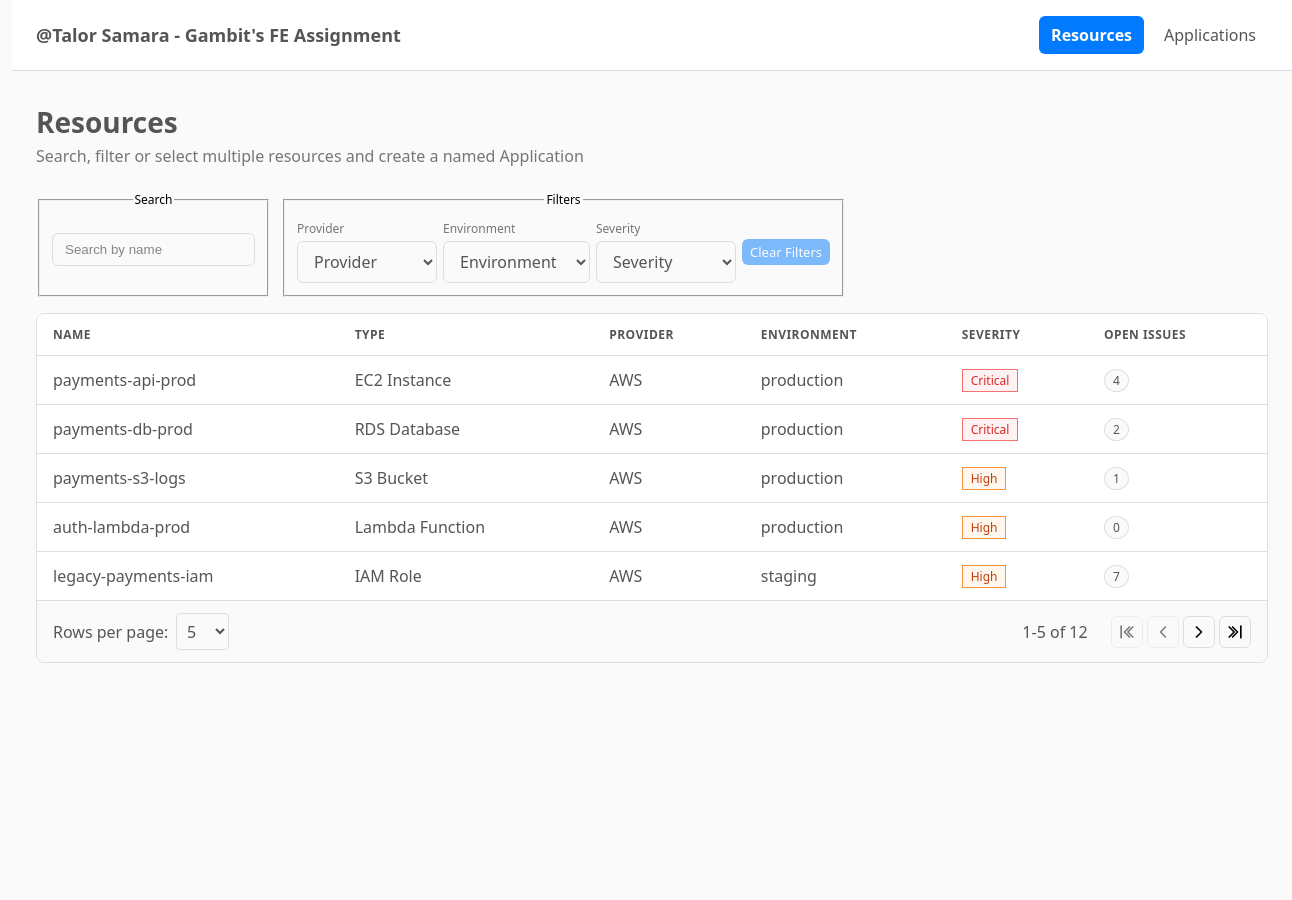
Test: ResourcesPage › should filter resources by provider and update the URL
Select "GCP" in the dropdown labelled "Provider": (367, 262) [297,241,437,283]
(page scrolled)
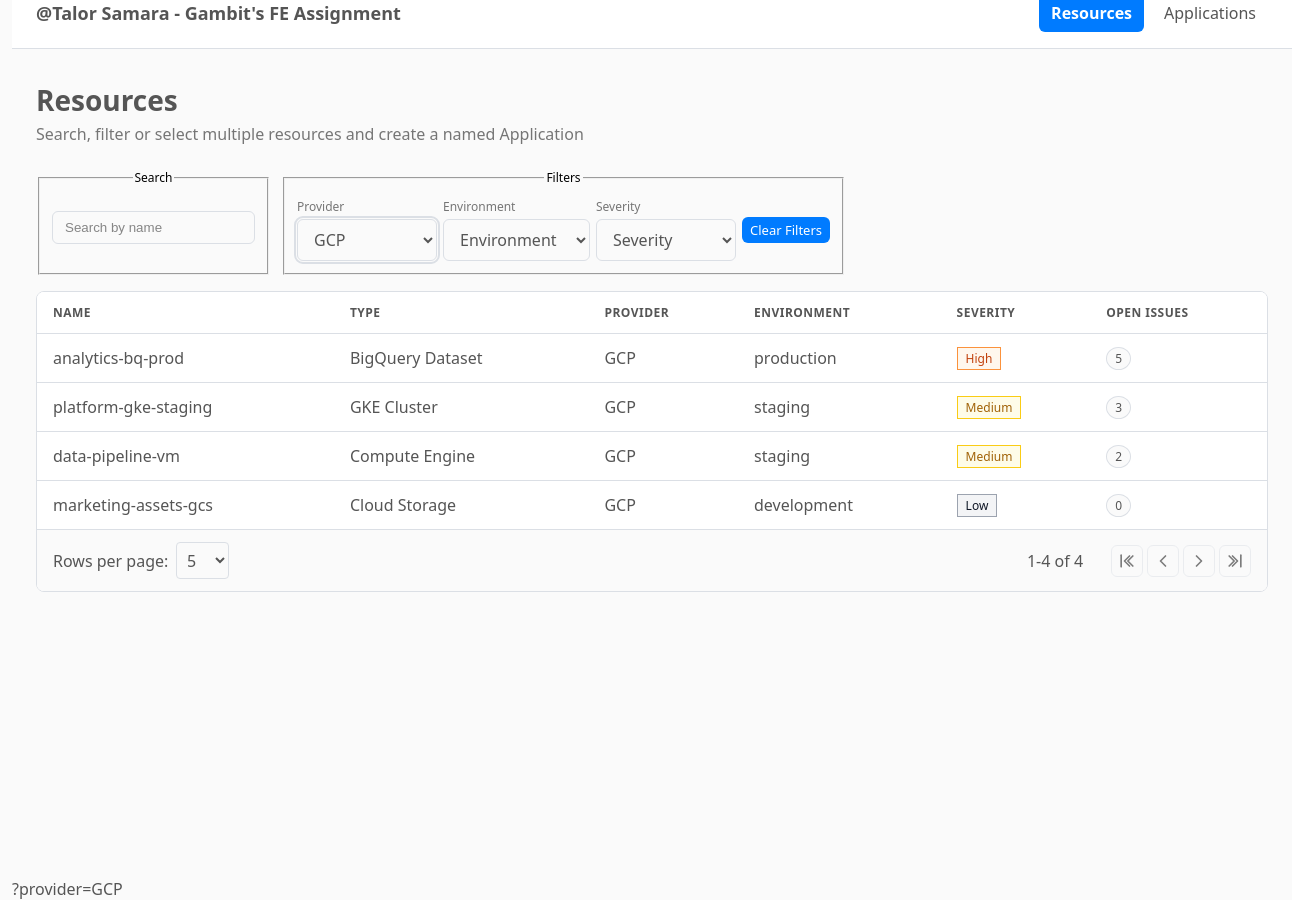
Now the cell "analytics-bq-prod" is shown, box [37,334,334,382]
Now the text "payments-api-prod" is gone
Now the text "1-4 of 4" is shown, box [1027,550,1083,572]
